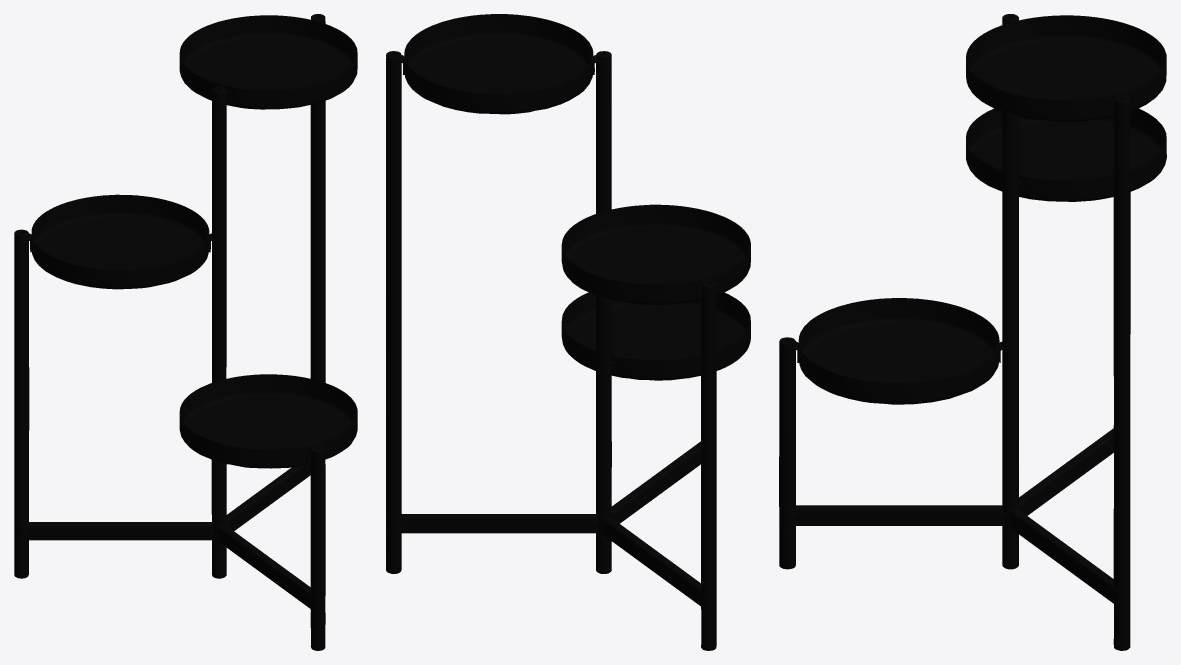
Rendered from olivblad_stojak_na_doniczke_50486650.glb.
The picture shows the model from 3 angles, left to right: view 1: azimuth 30°, elevation 25°; view 2: azimuth 150°, elevation 25°; view 3: azimuth 270°, elevation 25°; orthographic projection. The views are drawn at different scales.
Parts seen in each view (by area): view 1: olivblad_stojak_na_doniczke_50486650; view 2: olivblad_stojak_na_doniczke_50486650; view 3: olivblad_stojak_na_doniczke_50486650.
Boxes of the visible parts, x1,y1,x2,y2 form: olivblad_stojak_na_doniczke_50486650: (14, 14, 357, 650); olivblad_stojak_na_doniczke_50486650: (386, 14, 750, 650); olivblad_stojak_na_doniczke_50486650: (779, 14, 1166, 650).
Size of the model in its own units: 0.3873 by 0.5825 by 0.3726.
Materials: 1 (1 with a texture image).
